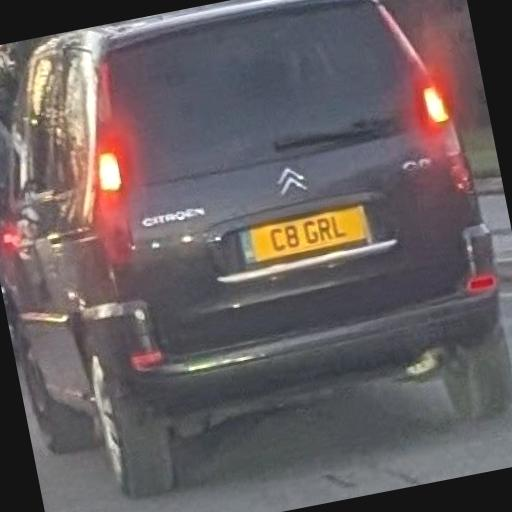numberplates: (242, 207, 369, 263)
